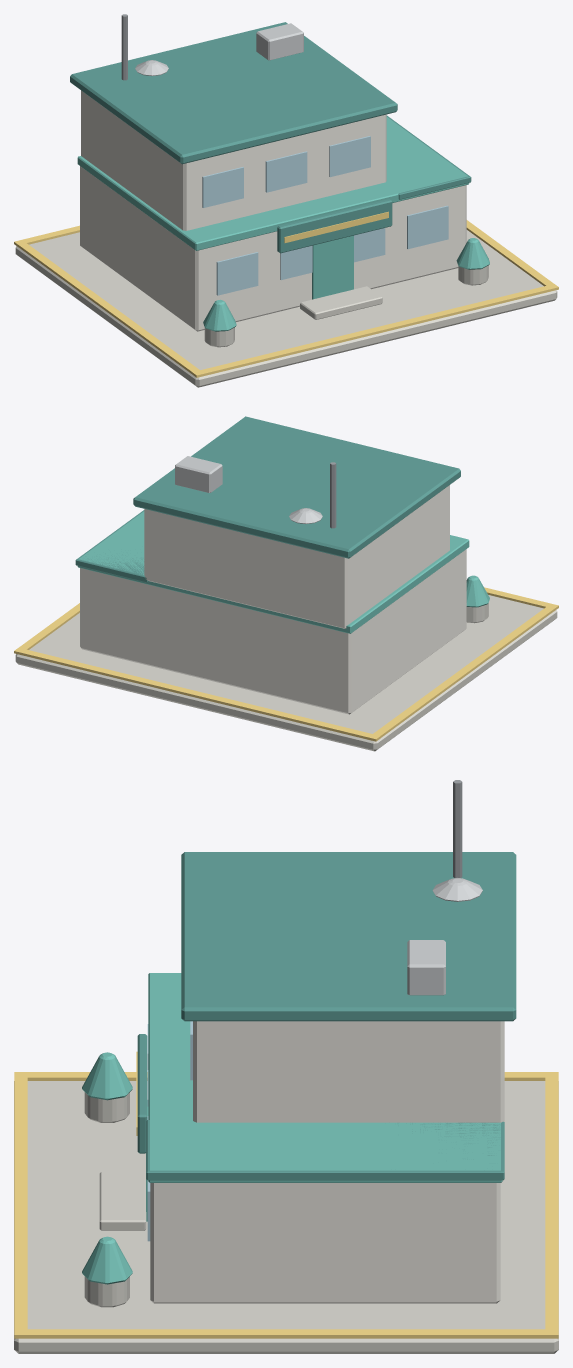
File: CooperativeOffice.fbx
The picture shows the model from 3 angles, top to bottom: view 1: azimuth 30°, elevation 25°; view 2: azimuth 150°, elevation 25°; view 3: azimuth 270°, elevation 25°; orthographic projection. The views are drawn at different scales.
Parts seen in each view (by area): view 1: CO_Roof, CO_Base, CO_Floor1, CO_Floor2, CO_Band, CO_EdgeS, CO_SignBoard, CO_Door, CO_EdgeW, CO_Step, CO_Window1_1, CO_Window1_4 (+14 smaller); view 2: CO_Floor1, CO_Roof, CO_Floor2, CO_Base, CO_Band, CO_EdgeN, CO_EdgeW, CO_ACUnit, CO_Terrace, CO_Plant2, CO_EdgeE, CO_EdgeS (+2 smaller); view 3: CO_Roof, CO_Base, CO_Floor1, CO_Floor2, CO_Band, CO_EdgeE, CO_Terrace, CO_EdgeN, CO_EdgeS, CO_Step, CO_ACUnit, CO_Plant2 (+7 smaller).
Boxes of the visible parts, <box> form: CO_Roof: <box>70,22,397,164</box>; CO_Base: <box>15,230,557,387</box>; CO_Floor1: <box>80,166,466,331</box>; CO_Floor2: <box>81,90,386,230</box>; CO_Band: <box>77,117,469,250</box>; CO_EdgeS: <box>192,284,558,377</box>; CO_SignBoard: <box>277,199,392,253</box>; CO_Door: <box>312,235,353,299</box>; CO_EdgeW: <box>18,243,199,373</box>; CO_Step: <box>300,286,382,319</box>; CO_Window1_1: <box>216,252,258,295</box>; CO_Window1_4: <box>407,205,448,249</box>; CO_Floor1: <box>80,549,466,714</box>; CO_Roof: <box>133,416,460,558</box>; CO_Floor2: <box>144,485,449,628</box>; CO_Base: <box>15,595,557,751</box>; CO_Band: <box>77,511,469,633</box>; CO_EdgeN: <box>14,647,380,741</box>; CO_EdgeW: <box>373,607,554,737</box>; CO_ACUnit: <box>175,456,222,492</box>; CO_Terrace: <box>75,510,148,582</box>; CO_Plant2: <box>466,575,489,607</box>; CO_EdgeE: <box>19,603,79,649</box>; CO_EdgeS: <box>484,587,558,610</box>; CO_Roof: <box>181,852,516,1021</box>; CO_Base: <box>14,1081,558,1353</box>; CO_Floor1: <box>150,1183,500,1303</box>; CO_Floor2: <box>193,1021,504,1122</box>; CO_Band: <box>148,973,502,1182</box>; CO_EdgeE: <box>27,1329,545,1338</box>; CO_Terrace: <box>146,1120,504,1180</box>; CO_EdgeN: <box>545,1072,558,1338</box>; CO_EdgeS: <box>14,1072,27,1338</box>; CO_Step: <box>99,1172,146,1230</box>; CO_ACUnit: <box>407,940,445,995</box>; CO_Plant2: <box>82,1052,132,1100</box>.
Bounding box in the file's own units: 16 × 10.4 × 14.
